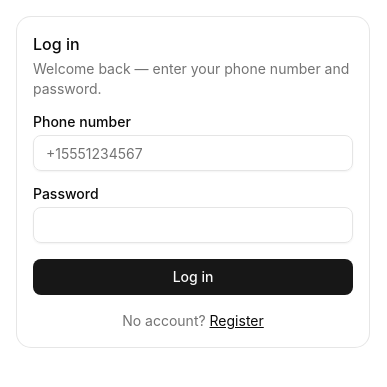
Test case: LoginPage › shows a validation error and does not submit for an invalid phone number
Type "123" into the field labelled "Phone number". click: (193, 153)
box: top-left (33, 135), bottom-right (353, 171)
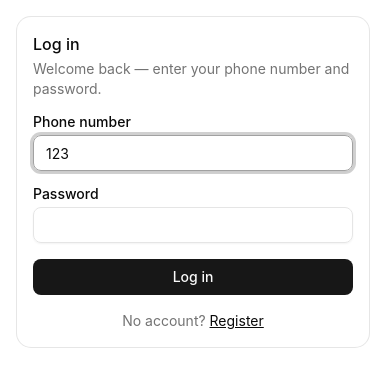
Type "secret" into the password field labelled "Password". click: (193, 225)
box: top-left (33, 207), bottom-right (353, 243)
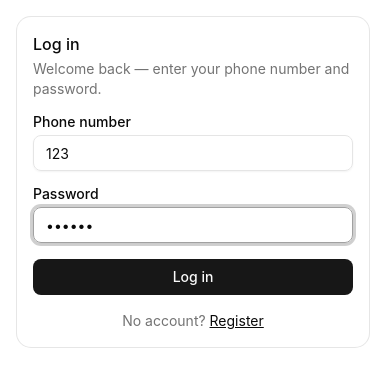
Click the button "Log in". click: (193, 277)
box: top-left (33, 259), bottom-right (353, 295)
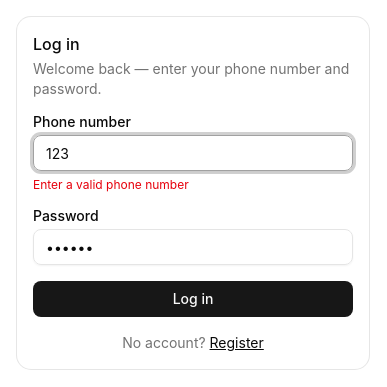
Result: the text "Enter a valid phone number" is shown at top-left (33, 177), bottom-right (189, 192)
